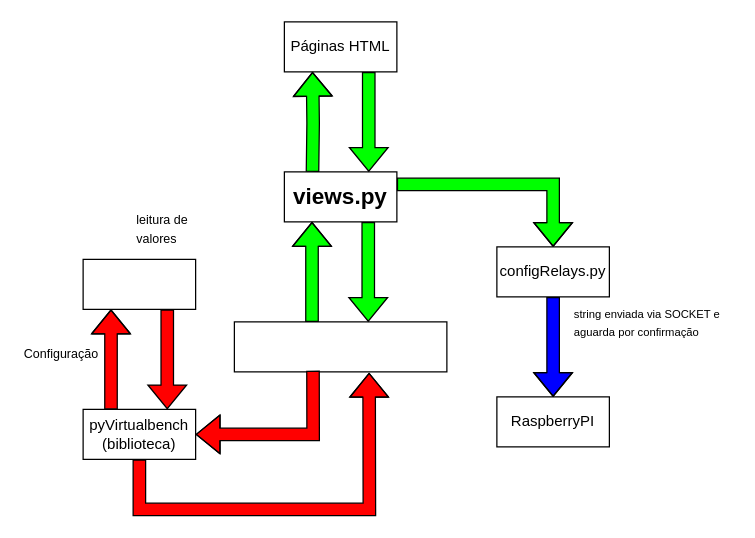
This 755x538 diagram has some shape labels left out. Here are the shapes that lost their labels. From the top down, the centre of each, then its label:
At [139,283]: "VirtualBench".
At [340,346]: "configVB.py mixed_signal_oscilloscope.py".
